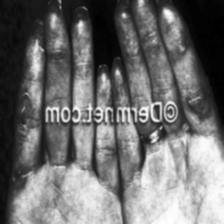Unclassified: (190, 87, 212, 129), (8, 160, 30, 194), (27, 27, 48, 61), (15, 94, 33, 127), (72, 9, 89, 30), (93, 76, 109, 94), (111, 68, 126, 86), (161, 6, 175, 24), (130, 0, 148, 12), (52, 0, 60, 20), (118, 1, 124, 27)
